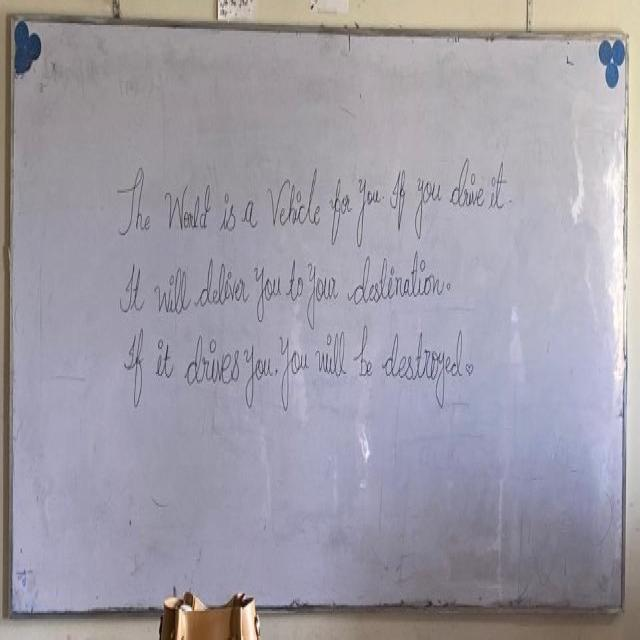White-board: (9, 21, 630, 612)
